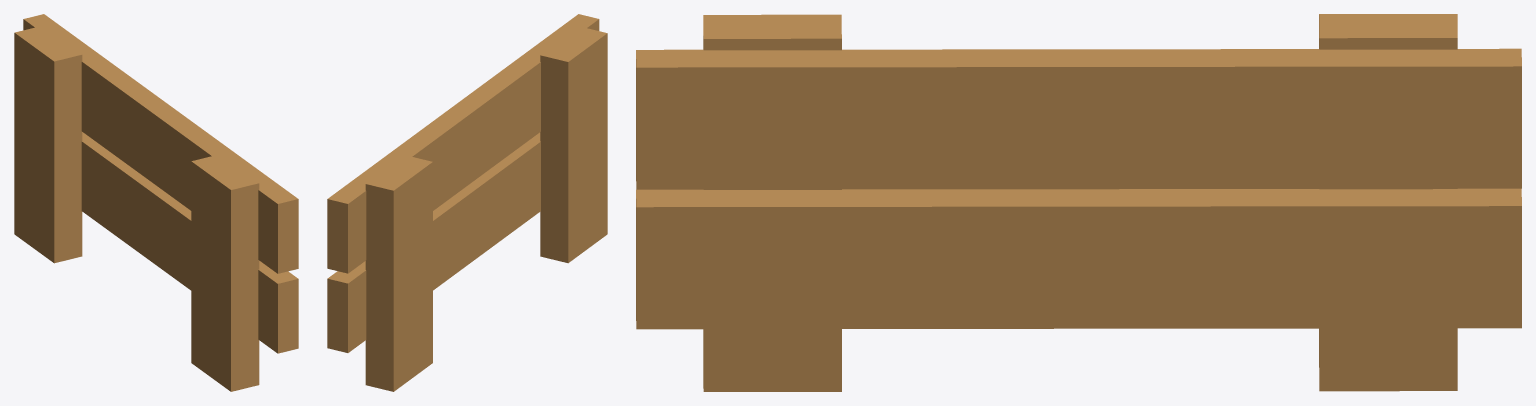
Rendered from fence.glb.
The picture shows the model from 3 angles, left to right: view 1: azimuth 30°, elevation 25°; view 2: azimuth 150°, elevation 25°; view 3: azimuth 270°, elevation 25°; orthographic projection. The views are drawn at different scales.
Visible parts, largest first — view 1: fence; view 2: fence; view 3: fence.
Part boxes in pixels (x1,y1,x2,y2): fence: [14, 14, 298, 391]; fence: [327, 14, 607, 391]; fence: [636, 14, 1521, 391].
Size of the model in its own units: 0.1401 by 0.548 by 1.25.
